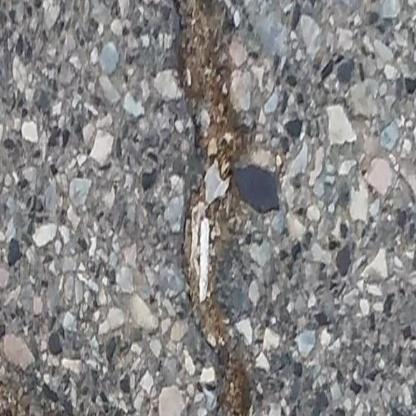Cracks: (156, 0, 262, 416), (0, 364, 76, 416)
